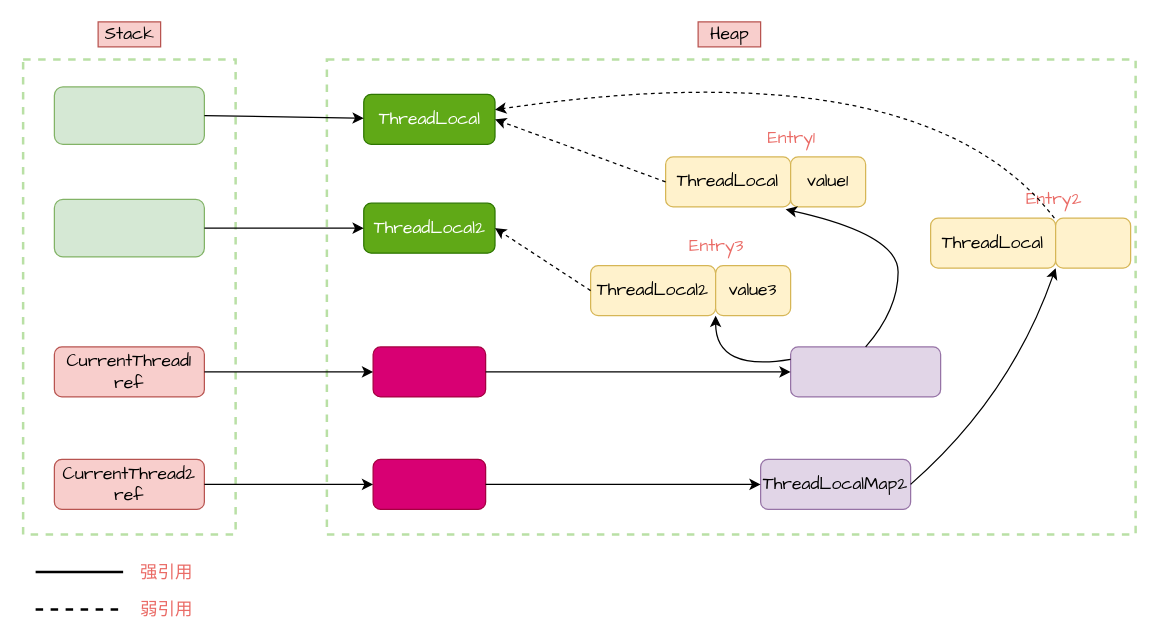
The diagram is 1158 pixels wide and 644 high, and some of its shapes have lost their labels. The shapes that lost their labels are listed below. From the top down, each one's centre as x and y in pixels, then its label:
the point at 128,115: ThreadLocal ref
the point at 128,227: ThreadLocal2 ref
the point at 1092,242: value2
the point at 429,371: Thread1
the point at 865,371: ThreadLocalMap1
the point at 429,483: Thread2
